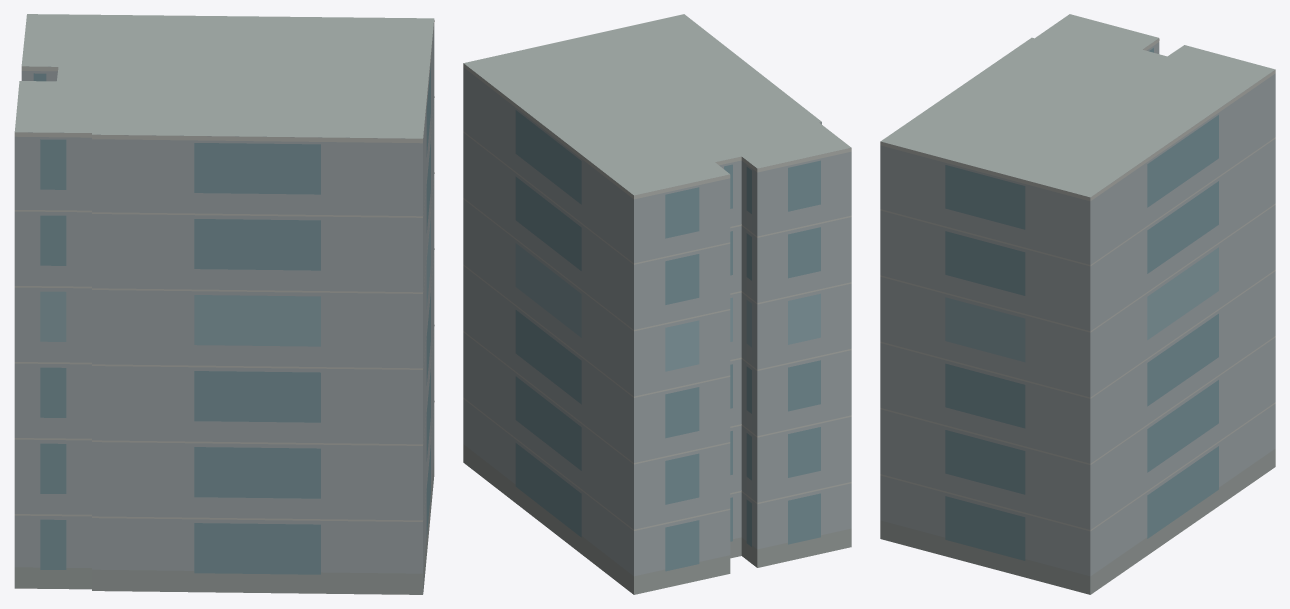
File: survey-upis-32922594.glb
3 renders of one model, left to right at view 1: azimuth 30°, elevation 25°; view 2: azimuth 150°, elevation 25°; view 3: azimuth 270°, elevation 25°, orthographic. The views are drawn at different scales.
Parts seen in each view (by area): view 1: survey-upis-32922594.tmp; view 2: survey-upis-32922594.tmp; view 3: survey-upis-32922594.tmp.
Part boxes in pixels (box(x1,y1,x2,y2)): survey-upis-32922594.tmp: box(14, 14, 434, 594); survey-upis-32922594.tmp: box(463, 14, 851, 594); survey-upis-32922594.tmp: box(880, 14, 1275, 594).
Size of the model in its own units: 24.41 by 24.64 by 22.22.
